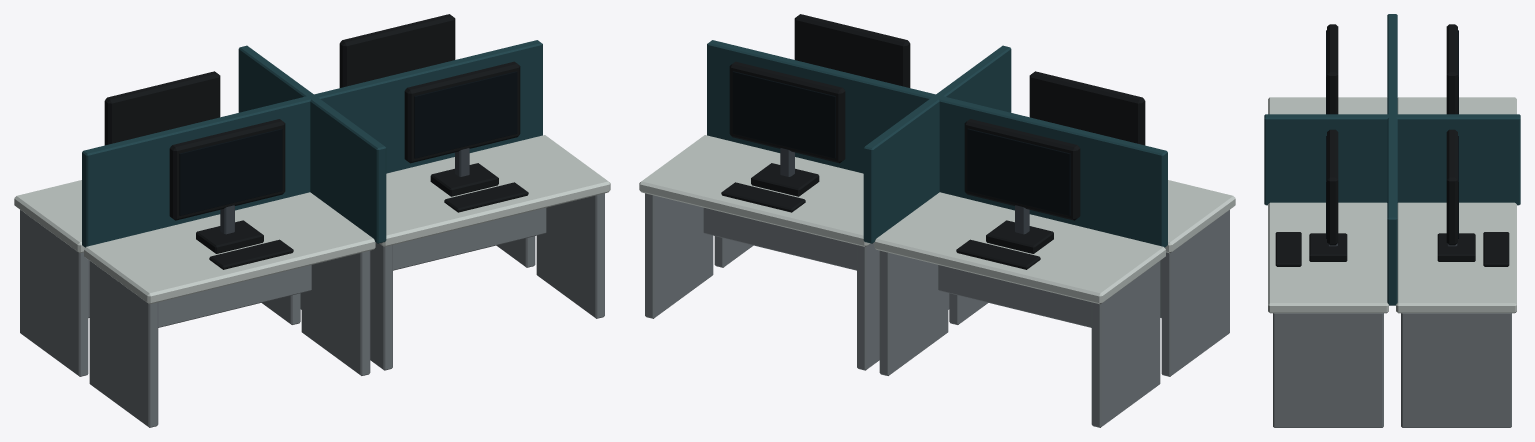
Rendered from WorkstationBank4.fbx.
3 views of the same model, side by side, from view 1: azimuth 30°, elevation 25°; view 2: azimuth 150°, elevation 25°; view 3: azimuth 270°, elevation 25° (orthographic). The views are drawn at different scales.
Visible parts, largest first — view 1: WorkstationBank4; view 2: WorkstationBank4; view 3: WorkstationBank4.
Boxes of the visible parts, <box> form: WorkstationBank4: <box>14,14,610,427</box>; WorkstationBank4: <box>639,14,1235,427</box>; WorkstationBank4: <box>1264,14,1520,427</box>.
Size of the model in its own units: 284 by 144 by 148.
1 material, 1 textured.
